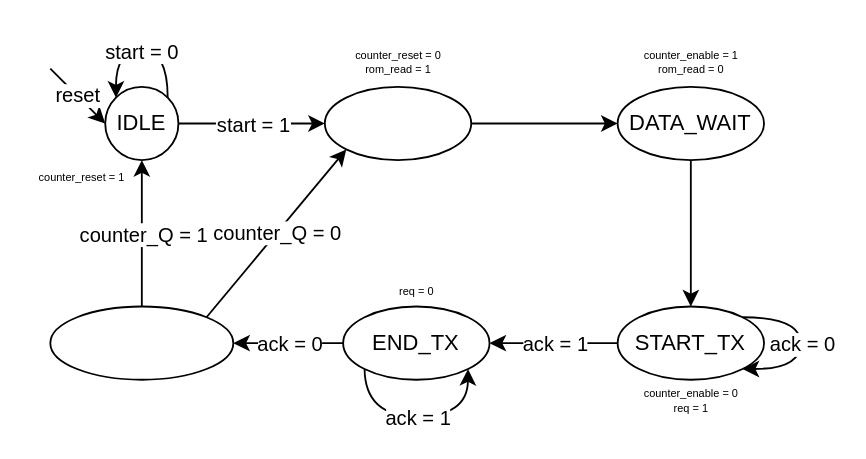
Image size: 866x459. Some labels were removed from this diagram. The shapes that lost their labels are listed below. From the top down, each one's box as (x1, y1, x2, y2) in pixels, then its label:
(323, 85, 471, 160): DATA_READ
(48, 305, 233, 380): CHECK_COUNT
